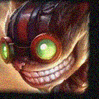Ziggs: (1, 2, 91, 94)
